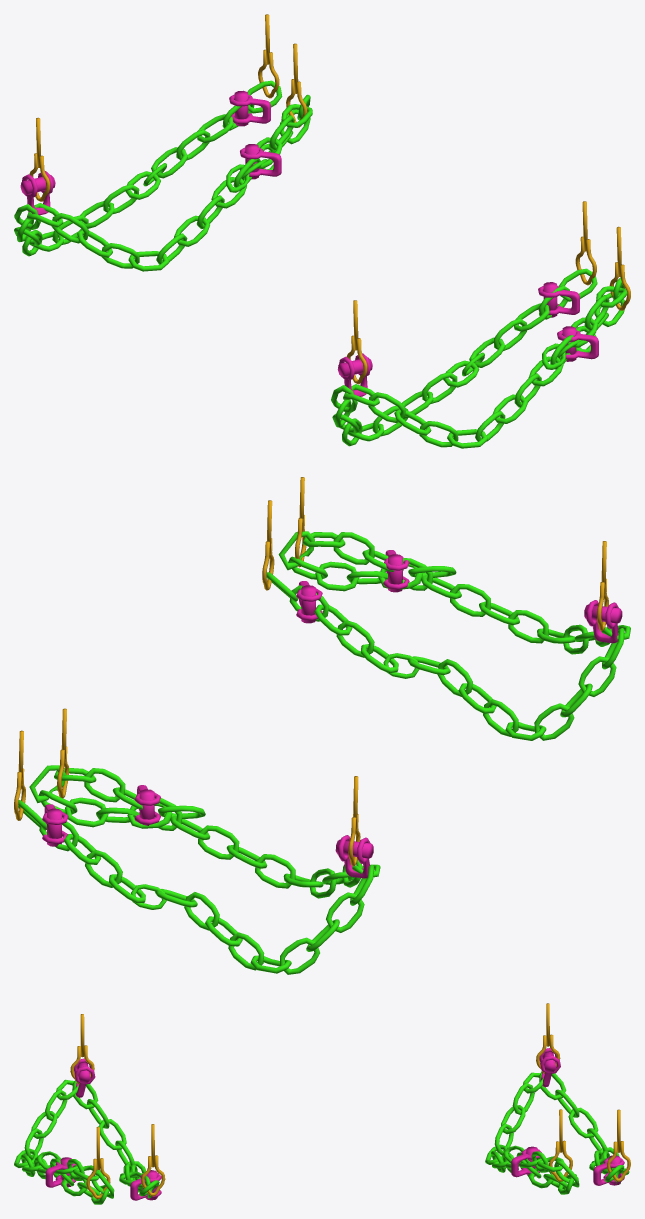
Rendered from Safety slings.fbx.
3 views of the same model, one above another, from view 1: azimuth 30°, elevation 25°; view 2: azimuth 150°, elevation 25°; view 3: azimuth 270°, elevation 25° (orthographic). The views are drawn at different scales.
Parts seen in each view (by area): view 1: Chain Links.020, Chain Links.001, Chain Links.003, Chain Links.002, Chain Links.019, Chain Links.021, Chain Links.022, Chain Links.018, BezierCircle.002, BezierCircle.001; view 2: Chain Links.020, Chain Links.001, Chain Links.022, Chain Links.019, Chain Links.003, Chain Links.021, Chain Links.018, Chain Links.002; view 3: Chain Links.020, Chain Links.001, Chain Links.019, Chain Links.022, BezierCircle.001, BezierCircle.002, BezierCircle.031, Chain Links.003, BezierCircle.032, Chain Links.021, BezierCircle.030, Chain Links.018 (+2 smaller).
Part boxes in pixels (x1,y1,x2,y2): Chain Links.020: [331, 268, 627, 448]; Chain Links.001: [14, 80, 312, 271]; Chain Links.003: [229, 90, 270, 126]; Chain Links.002: [538, 282, 579, 317]; Chain Links.019: [20, 171, 55, 215]; Chain Links.021: [557, 326, 598, 361]; Chain Links.022: [337, 353, 372, 396]; Chain Links.018: [240, 144, 281, 179]; BezierCircle.002: [258, 14, 279, 98]; BezierCircle.001: [575, 201, 596, 285]; Chain Links.020: [266, 531, 630, 740]; Chain Links.001: [18, 765, 380, 974]; Chain Links.022: [584, 600, 622, 643]; Chain Links.019: [335, 835, 373, 878]; Chain Links.003: [42, 804, 68, 846]; Chain Links.021: [383, 550, 409, 592]; Chain Links.018: [134, 785, 160, 825]; Chain Links.002: [296, 581, 322, 623]; Chain Links.020: [14, 1079, 159, 1204]; Chain Links.001: [485, 1071, 629, 1194]; Chain Links.019: [539, 1048, 560, 1087]; Chain Links.022: [74, 1058, 95, 1097]; BezierCircle.001: [141, 1124, 165, 1196]; BezierCircle.002: [607, 1109, 630, 1181]; BezierCircle.031: [86, 1126, 110, 1198]; Chain Links.003: [593, 1155, 624, 1185]; BezierCircle.032: [549, 1109, 572, 1181]; Chain Links.021: [45, 1157, 76, 1187]; BezierCircle.030: [70, 1014, 94, 1084]; Chain Links.018: [511, 1146, 541, 1177].
Bounding box in the file's own units: 97.56 × 47.87 × 177.
